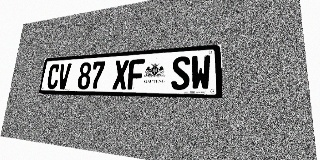7: (89, 61, 105, 89)
8: (77, 62, 92, 89)
C: (46, 64, 60, 89)
F: (127, 59, 145, 90)
S: (171, 56, 190, 90)
V: (57, 63, 71, 89)
W: (190, 55, 211, 90)
X: (112, 60, 129, 90)
